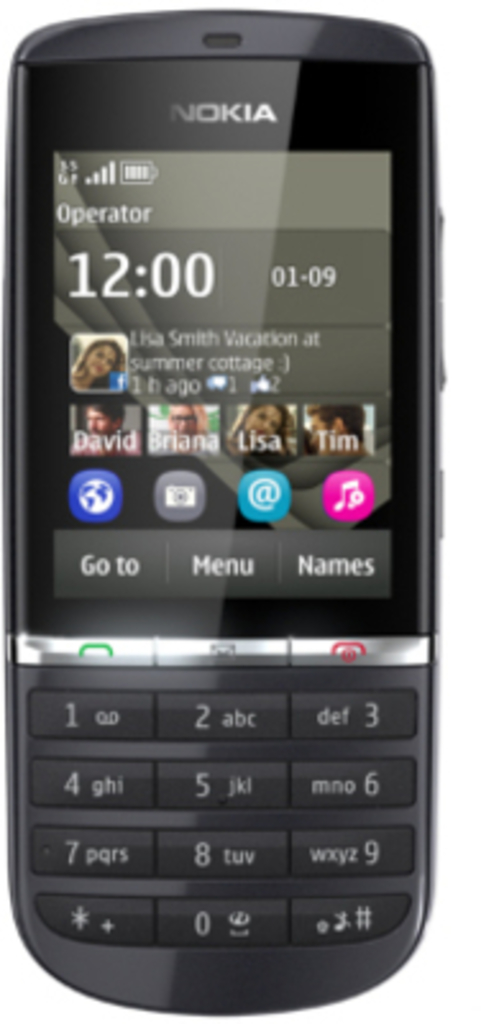mobile phone: (0, 0, 480, 1018)
